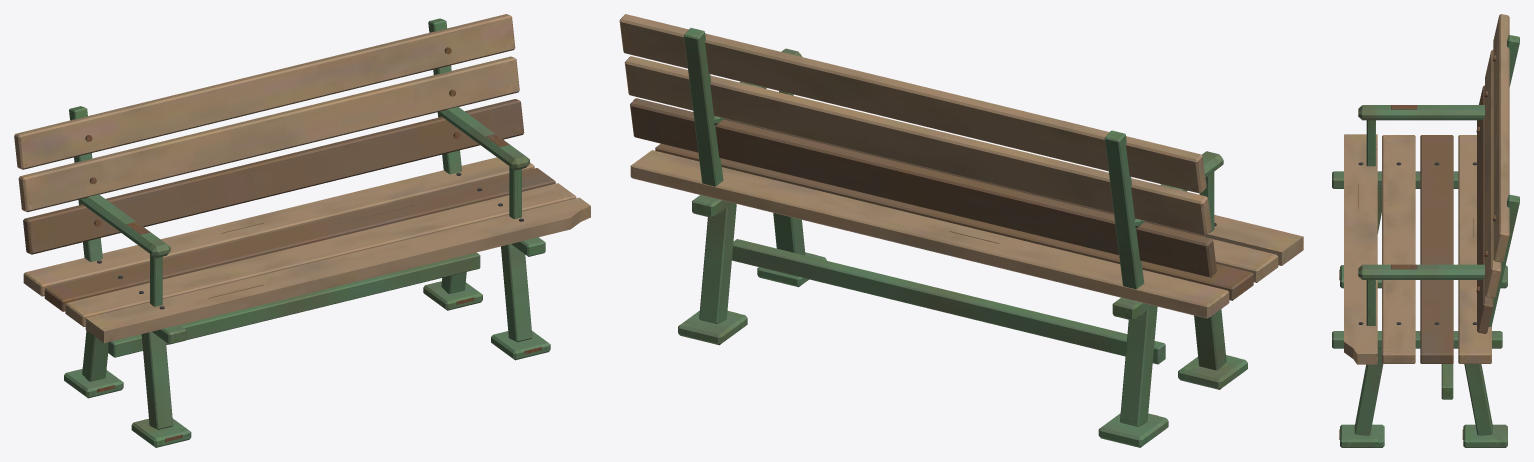
The model's file is RE06_station_bench.glb.
3 views of the same model, side by side, from view 1: azimuth 30°, elevation 25°; view 2: azimuth 150°, elevation 25°; view 3: azimuth 270°, elevation 25° (orthographic). The views are drawn at different scales.
Parts seen in each view (by area): view 1: Chipped front seat plank; view 2: Chipped front seat plank; view 3: Chipped front seat plank.
Boxes of the visible parts, left/top/right/bottom form: Chipped front seat plank: left=14, top=14, right=590, bottom=447; Chipped front seat plank: left=619, top=14, right=1303, bottom=447; Chipped front seat plank: left=1332, top=14, right=1519, bottom=447.
Size of the model in its own units: 2 by 1.03 by 0.7235.
5 materials, 5 textured.
